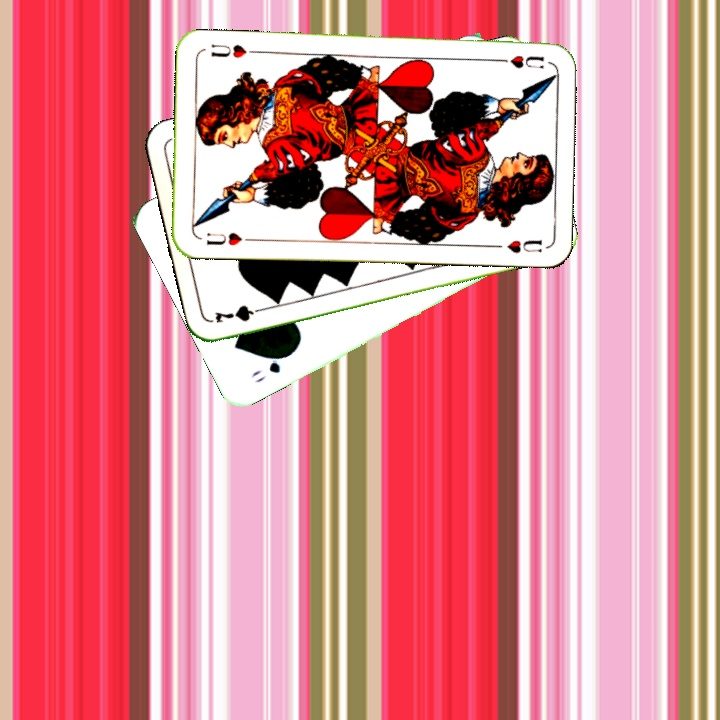G7: (210, 300, 270, 326)
GO: (246, 349, 295, 386)
HU: (491, 51, 547, 71), (202, 228, 255, 249)
